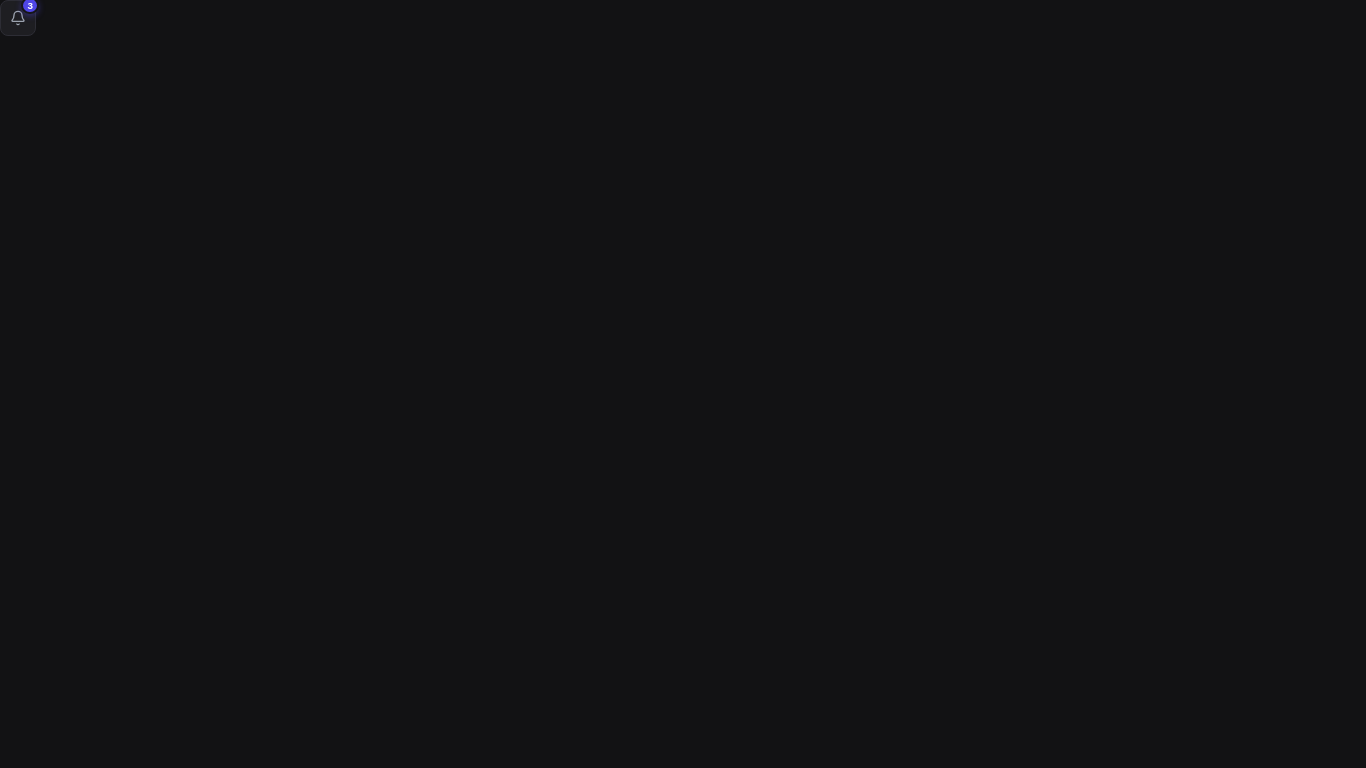
it: shared shell popover accessibility › keeps focus in the panel when dismiss/read/clear removes the active control
The image size is (1366, 768).
Step 1. Click the button named "Notifications" → click(18, 18), box [0, 0, 36, 36]
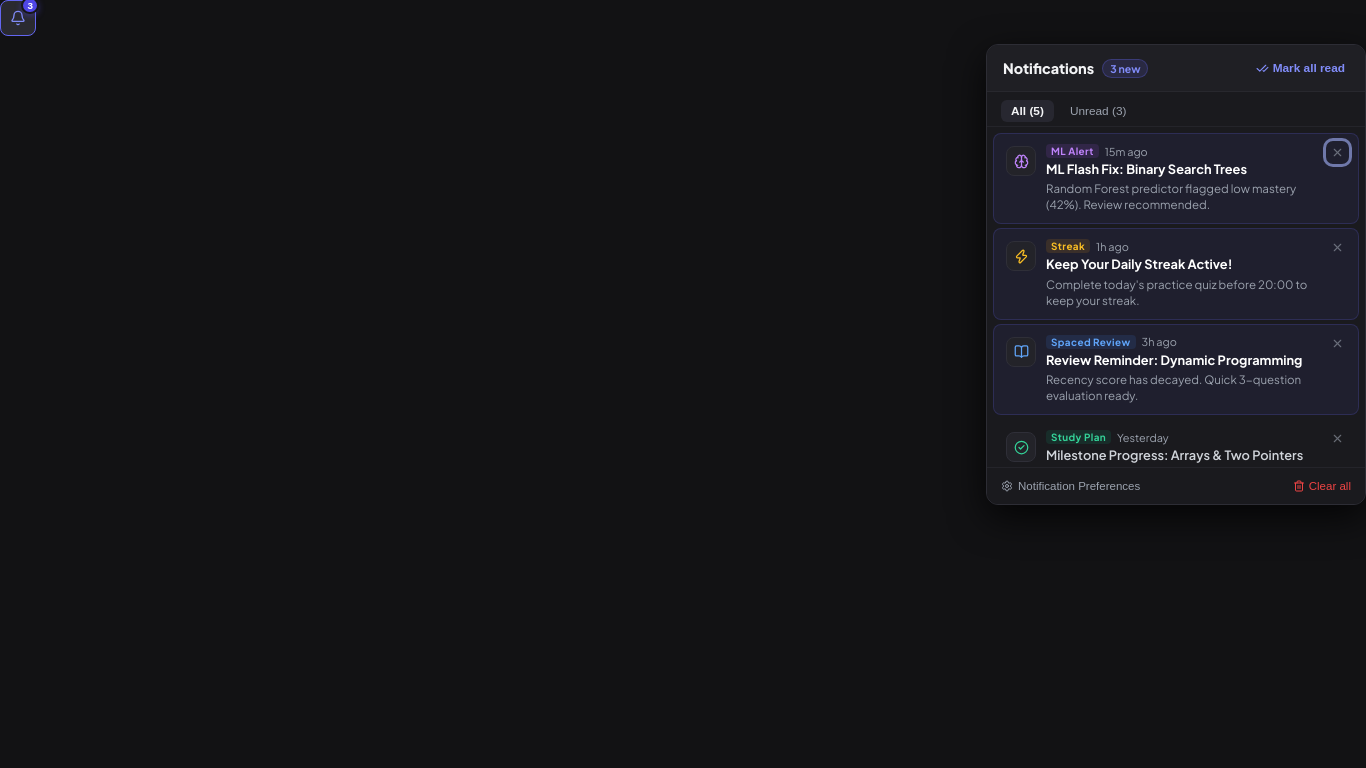
Step 2. Click the button named "Dismiss ML Flash Fix:" → click(1338, 152), box [1329, 144, 1346, 161]
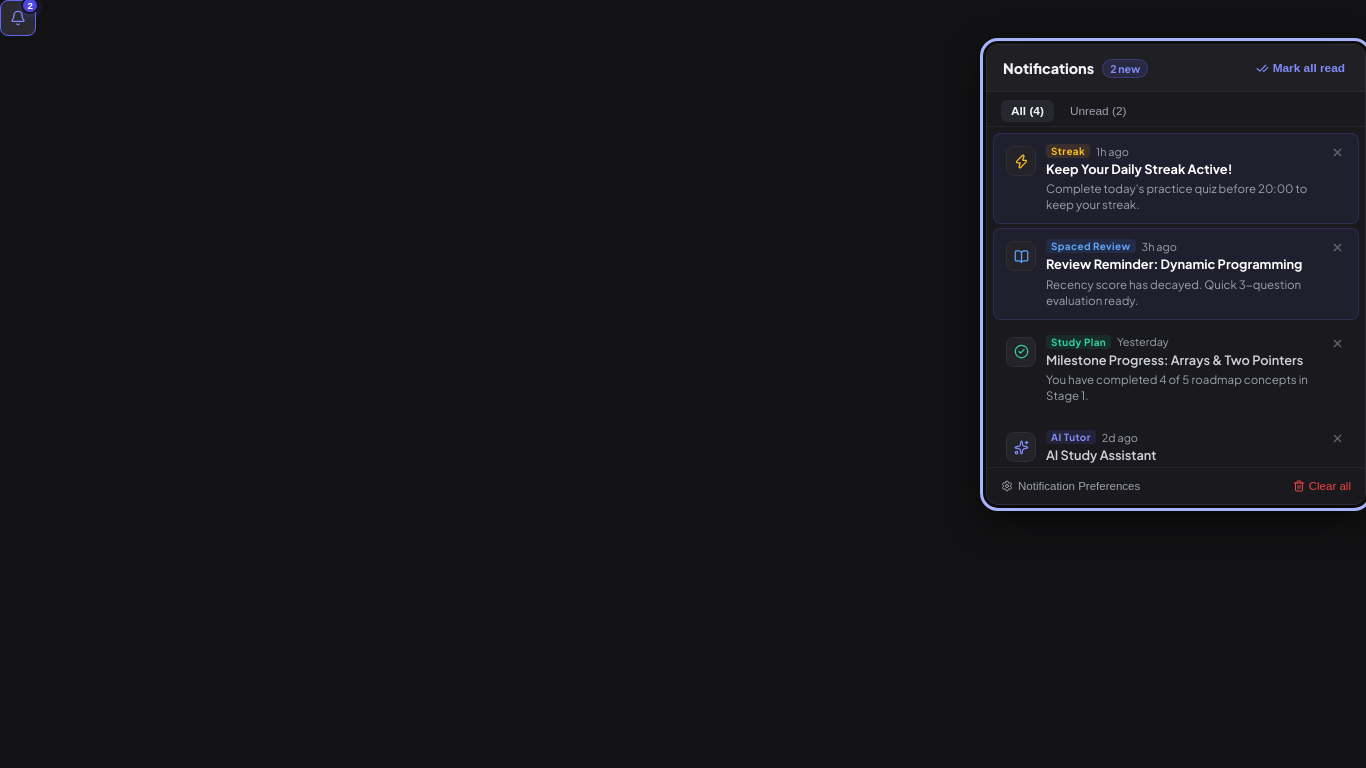
Step 3. Click the button "Mark all read" → click(1300, 68), box [1252, 57, 1349, 79]
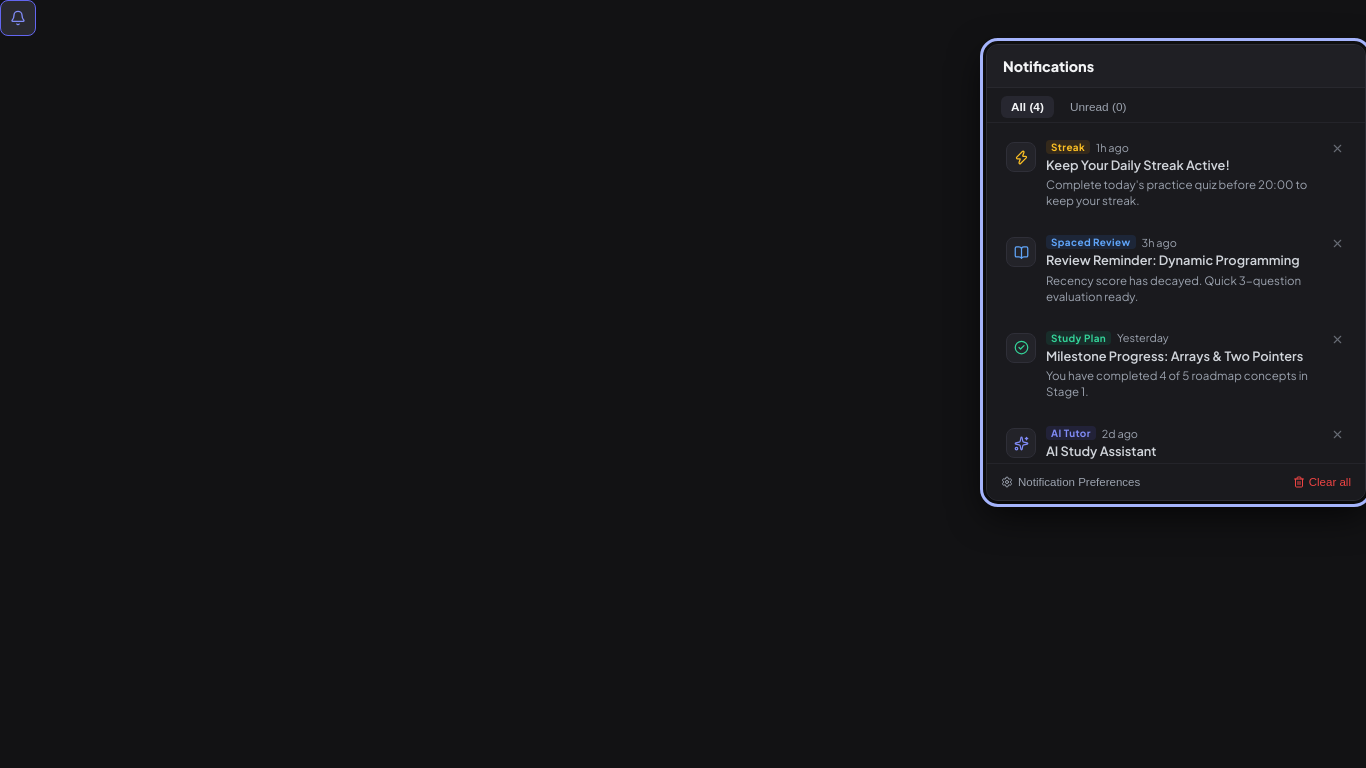
Result: the button "Mark all read" is gone
Step 4. Click the button "Clear all" → click(1322, 482), box [1293, 472, 1351, 492]
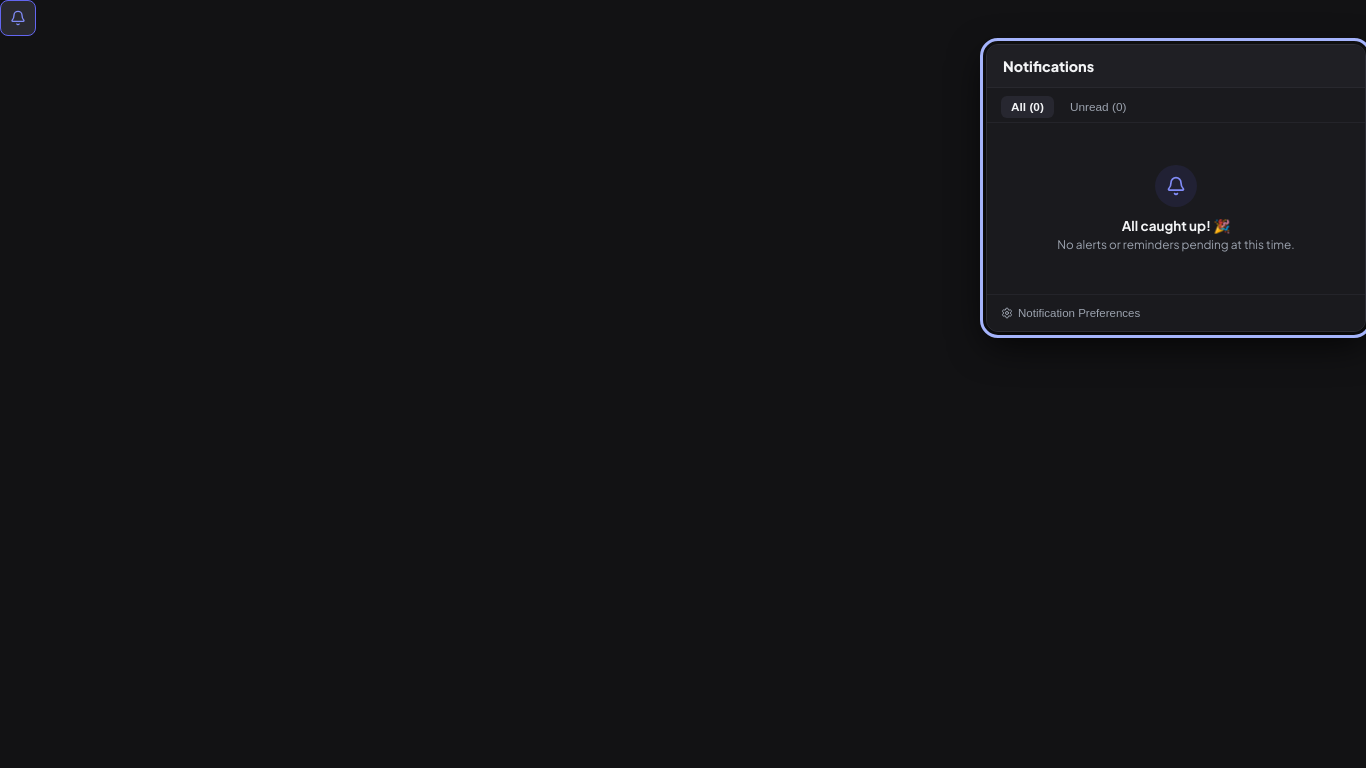
Result: the button "Clear all" is gone
